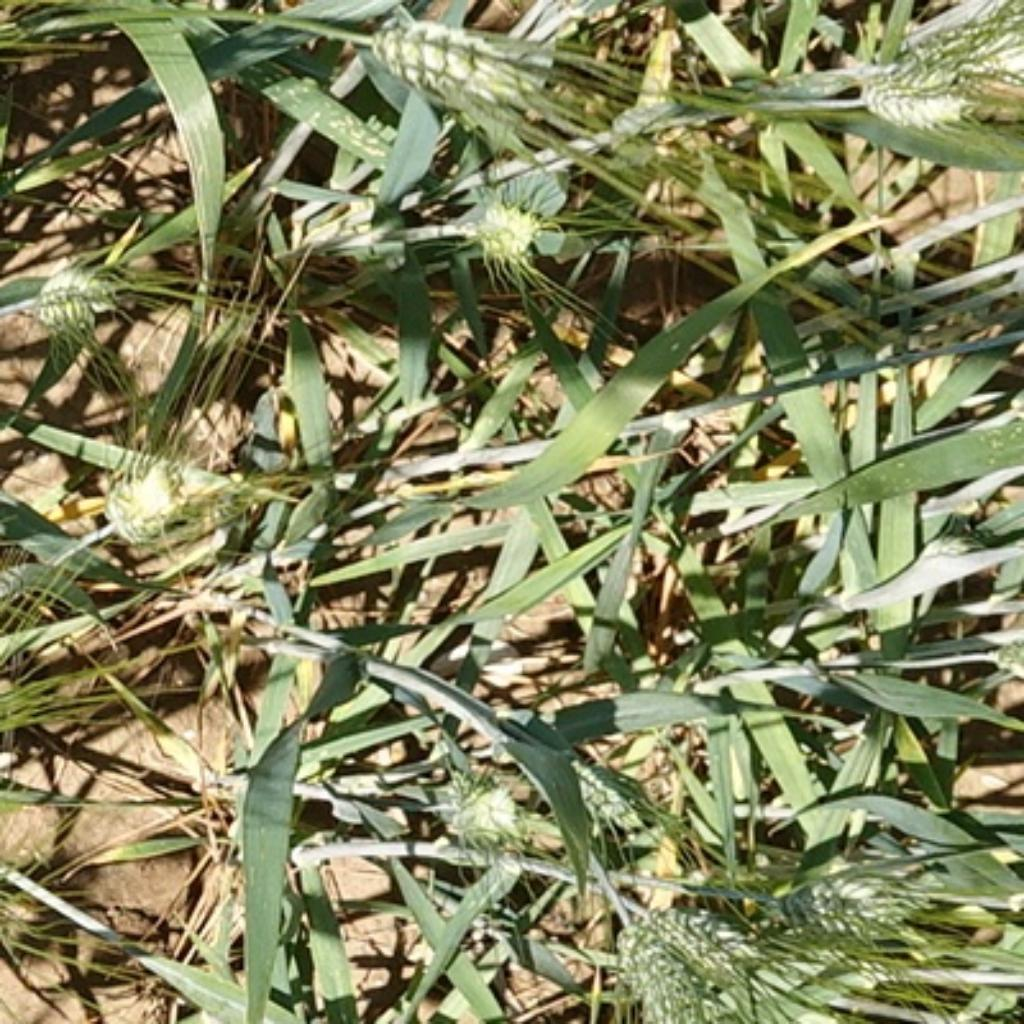0-0: (373, 10, 562, 113), (672, 889, 800, 1007), (859, 4, 1023, 88), (590, 922, 709, 1024), (783, 865, 921, 948), (854, 70, 1015, 133), (100, 453, 198, 546), (28, 254, 122, 336), (573, 766, 663, 845), (436, 783, 527, 855), (474, 197, 542, 268)
